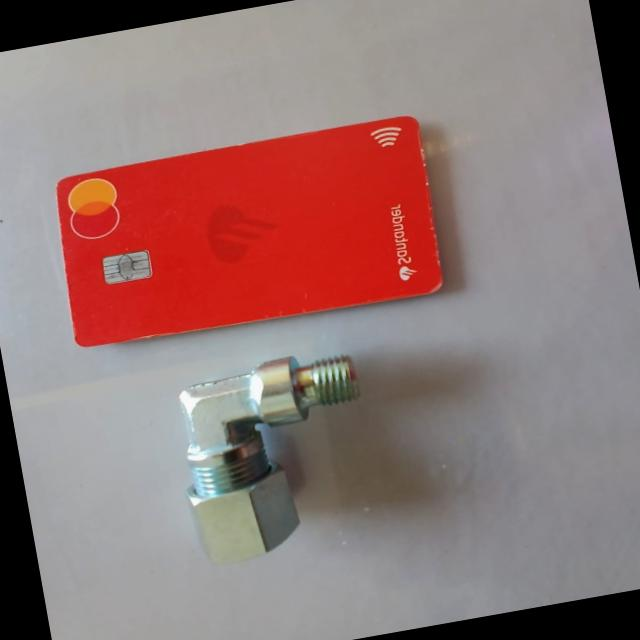cartao: (46, 114, 446, 355)
rosca_externa: (167, 344, 384, 570)
